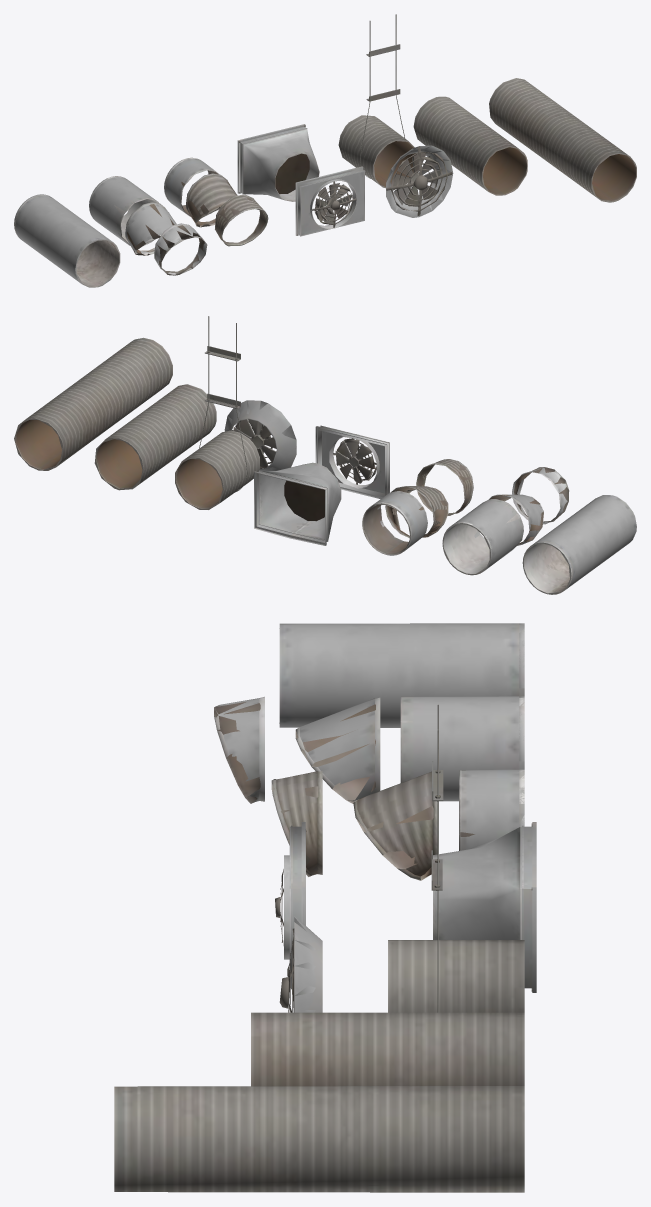
File: modular_airduct_circular_01.glb
The picture shows the model from 3 angles, top to bottom: view 1: azimuth 30°, elevation 25°; view 2: azimuth 150°, elevation 25°; view 3: azimuth 270°, elevation 25°; orthographic projection. The views are drawn at different scales.
Parts seen in each view (by area): view 1: modular_airduct_rectangular_vent_fan; view 2: modular_airduct_rectangular_vent_fan; view 3: modular_airduct_rectangular_vent_fan.
Boxes of the visible parts, x1,y1,x2,y2 form: modular_airduct_rectangular_vent_fan: (14, 14, 636, 287); modular_airduct_rectangular_vent_fan: (14, 316, 636, 594); modular_airduct_rectangular_vent_fan: (114, 623, 536, 1192).
Size of the model in its own units: 4.17 by 1.32 by 1.46.
Materials: 1 (1 with a texture image).
